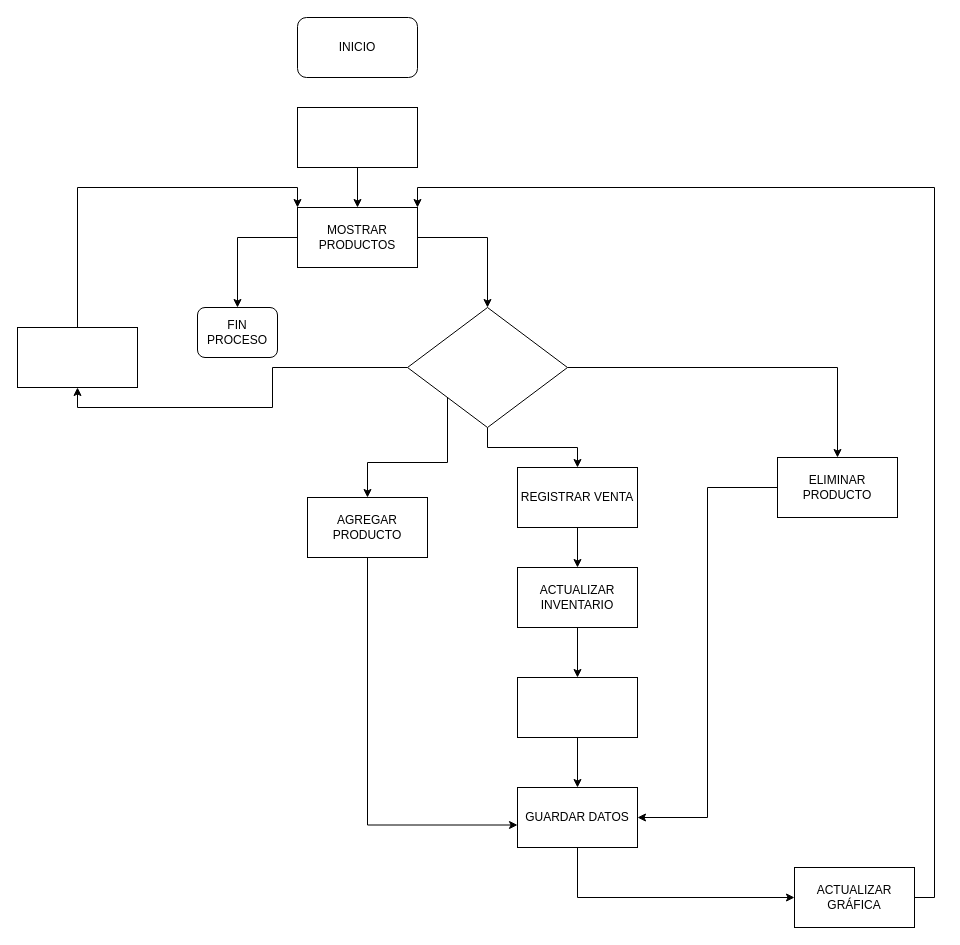
The diagram is 960 pixels wide and 945 high, and some of its shapes have lost their labels. The shapes that lost their labels are listed below. From the top down, each one's box as (x1, y1, x2, y2) in pixels, then its label:
(296, 106, 418, 168): CARGAR DATOS DESDE LOCALSTORAGE
(16, 326, 138, 388): BUSCAR PRODUCTO
(406, 306, 568, 428): SELECCIONAR OPCION
(516, 676, 638, 738): ACTUALIZAR VENTAS
